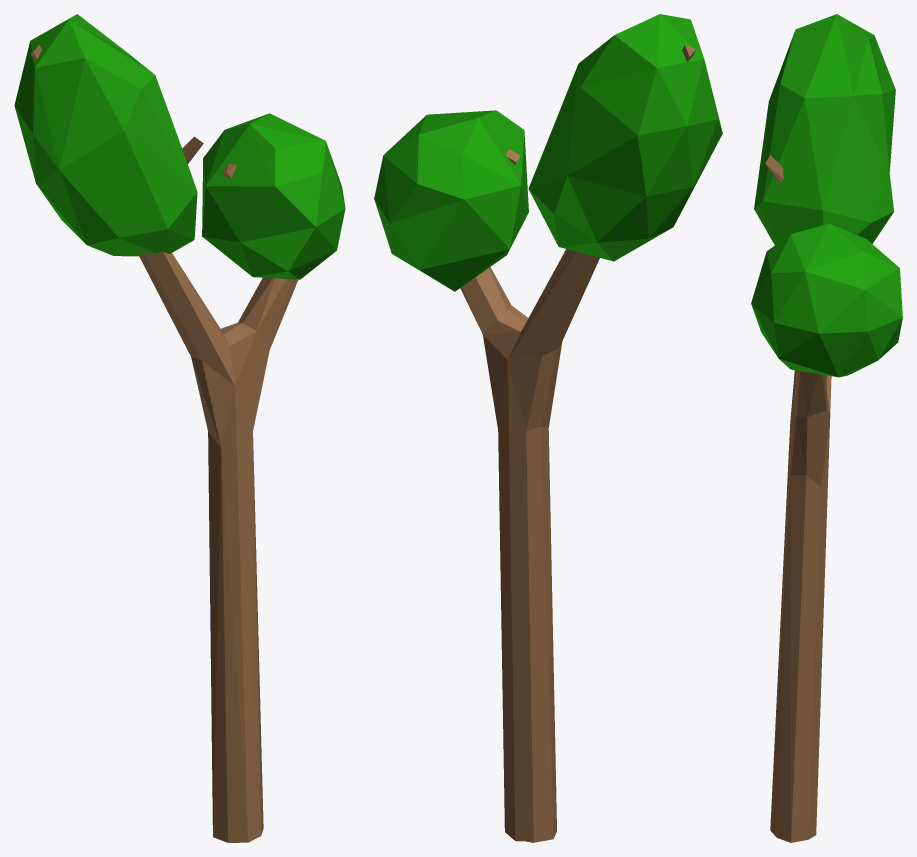
File: Tree_2.fbx
3 views of the same model, side by side, from view 1: azimuth 30°, elevation 25°; view 2: azimuth 150°, elevation 25°; view 3: azimuth 270°, elevation 25° (orthographic). The views are drawn at different scales.
Visible parts, largest first — view 1: Tree2_mesh; view 2: Tree2_mesh; view 3: Tree2_mesh.
Part boxes in pixels (box(x1,y1,x2,y2)): Tree2_mesh: box(14, 14, 345, 842); Tree2_mesh: box(374, 14, 722, 842); Tree2_mesh: box(751, 14, 902, 842).
Size of the model in its own units: 400 by 1037 by 188.
